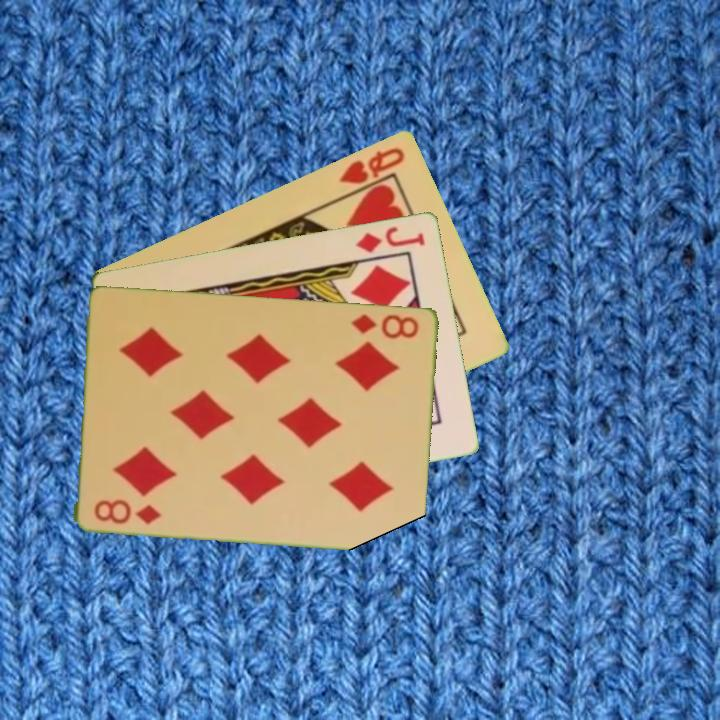8d: (92, 495, 165, 527), (348, 310, 422, 341)
Jd: (352, 222, 429, 255)
Qh: (336, 143, 408, 198)
